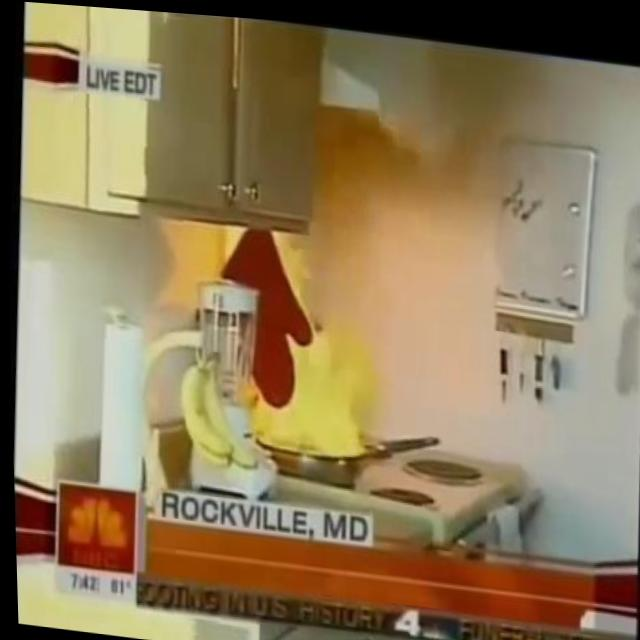fire: (231, 224, 377, 451)
